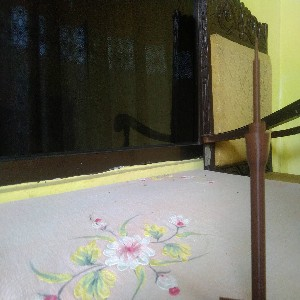solder: (243, 35, 272, 300)
